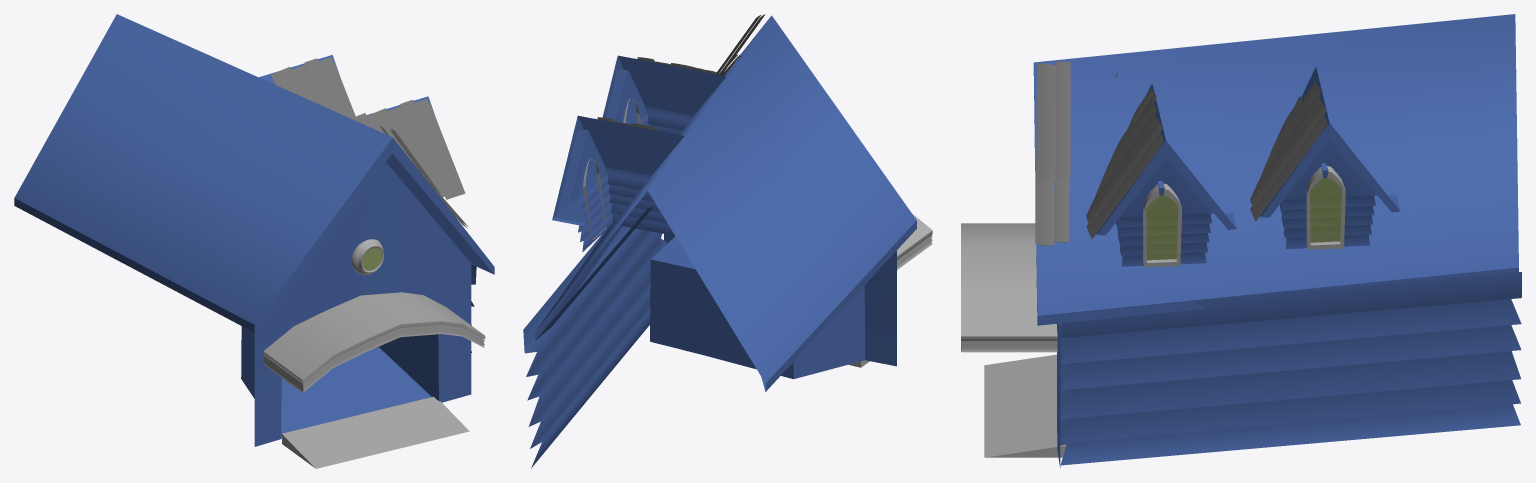
File: entdrance.fbx
3 views of the same model, side by side, from view 1: azimuth 30°, elevation 25°; view 2: azimuth 150°, elevation 25°; view 3: azimuth 270°, elevation 25° (orthographic). The views are drawn at different scales.
Parts seen in each view (by area): view 1: pCube9, pCube43, pCylinder1, pPlane17, pPlane18, pPlane52, clock:pCylinder1, pPlane16, pPlane51, pPlane53; view 2: pCube9, pPlane36, pCube64, pCube50, pCube43; view 3: pCube9, pPlane36, pCube43, pCube64, pCube50, pCylinder1, pPlane40, pPlane45, pPlane17, pPlane52, pPlane44, pPlane18 (+5 smaller).
Boxes of the visible parts, x1,y1,x2,y2 form: pCube9: [14, 14, 494, 446]; pCube43: [263, 292, 485, 392]; pCylinder1: [281, 396, 469, 468]; pPlane17: [414, 99, 465, 199]; pPlane18: [400, 100, 450, 196]; pPlane52: [318, 57, 355, 118]; clock:pCylinder1: [351, 239, 383, 275]; pPlane16: [384, 106, 428, 176]; pPlane51: [304, 58, 338, 112]; pPlane53: [288, 64, 320, 104]; pCube9: [535, 15, 916, 391]; pPlane36: [523, 226, 666, 468]; pCube64: [552, 115, 684, 251]; pCube50: [602, 55, 725, 134]; pCube43: [897, 213, 932, 269]; pCube9: [1033, 14, 1518, 468]; pPlane36: [1060, 272, 1521, 465]; pCube43: [961, 223, 1057, 352]; pCube64: [1260, 67, 1400, 249]; pCube50: [1096, 84, 1236, 267]; pCylinder1: [984, 354, 1066, 457]; pPlane40: [1055, 61, 1070, 177]; pPlane45: [1040, 65, 1055, 180]; pPlane17: [1086, 132, 1163, 238]; pPlane52: [1250, 114, 1327, 221]; pPlane44: [1039, 166, 1054, 245]; pPlane18: [1086, 120, 1162, 225].
Size of the model in its own units: 0.0852 by 0.0828 by 0.1161.
